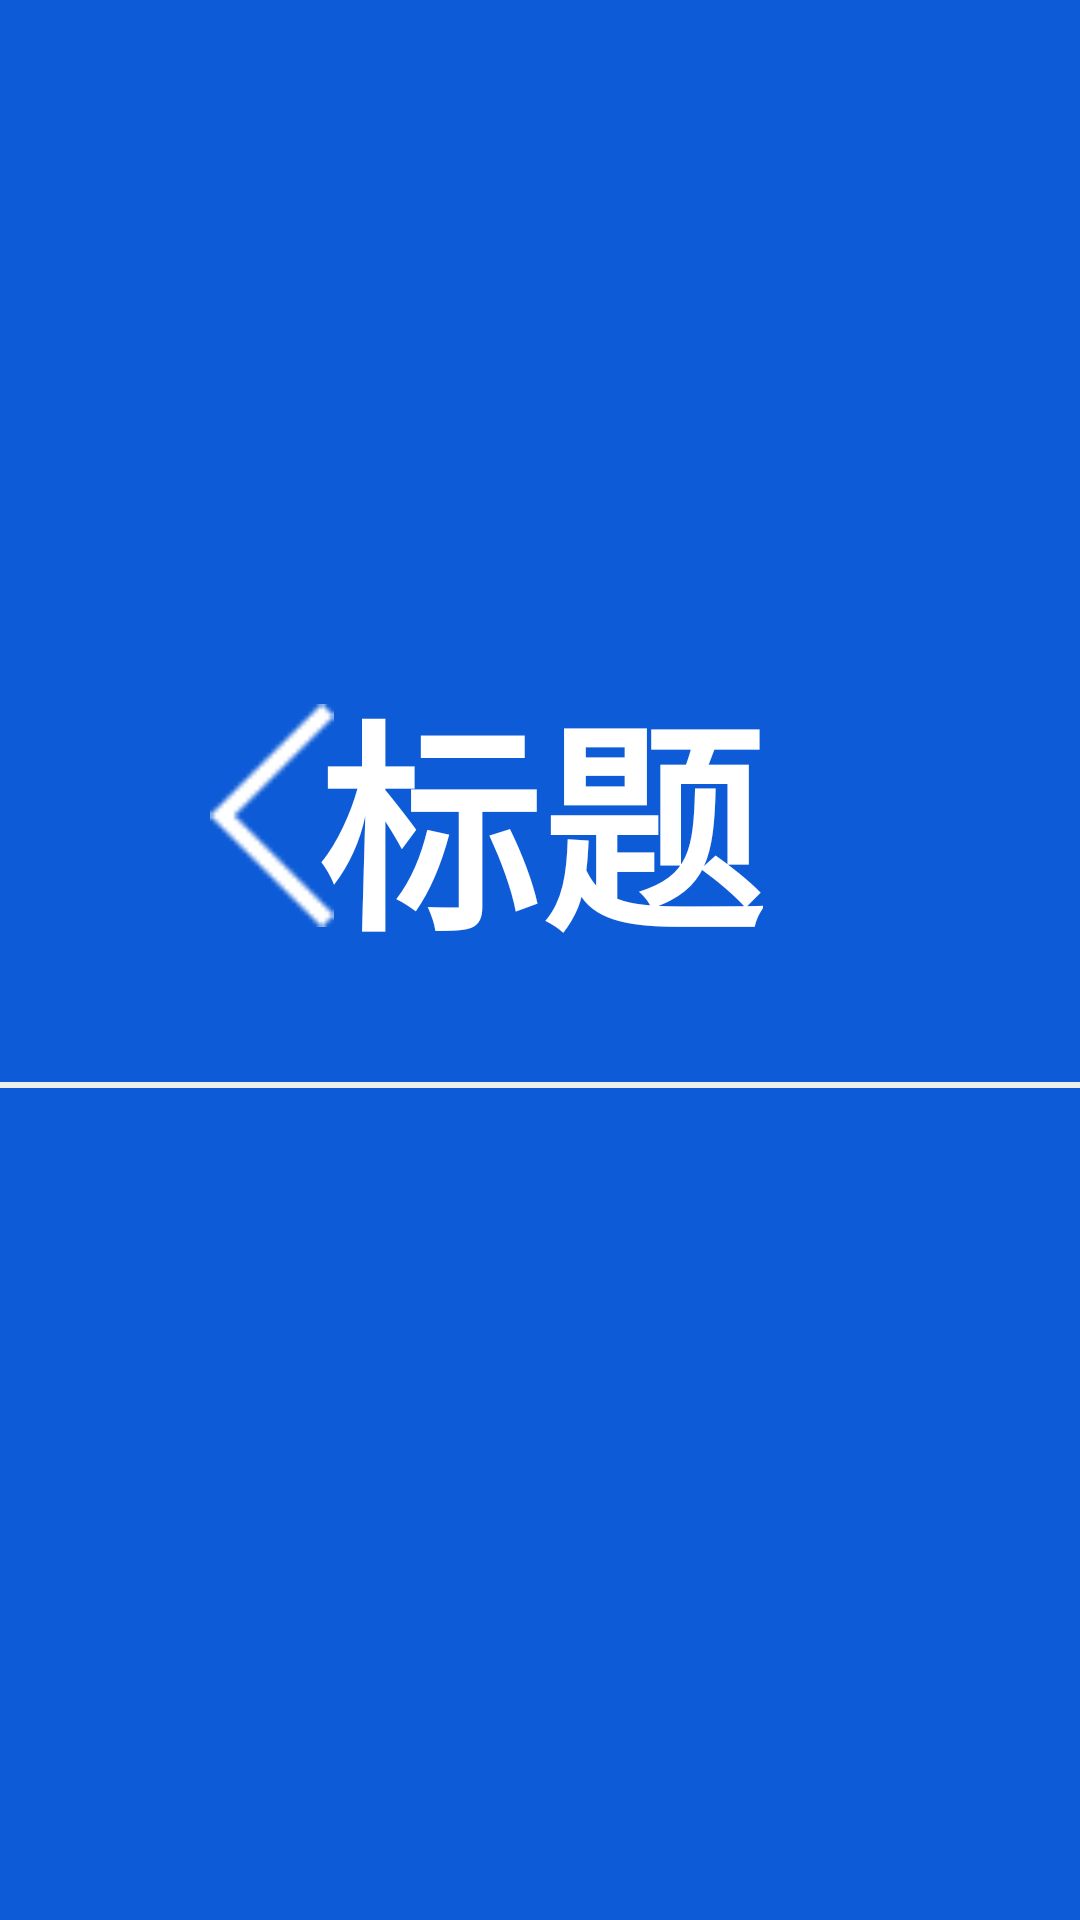

Point at icon controls on the screen. Image size 1080*1920, points as (x=x, y=y).
back: (x=272, y=815)
